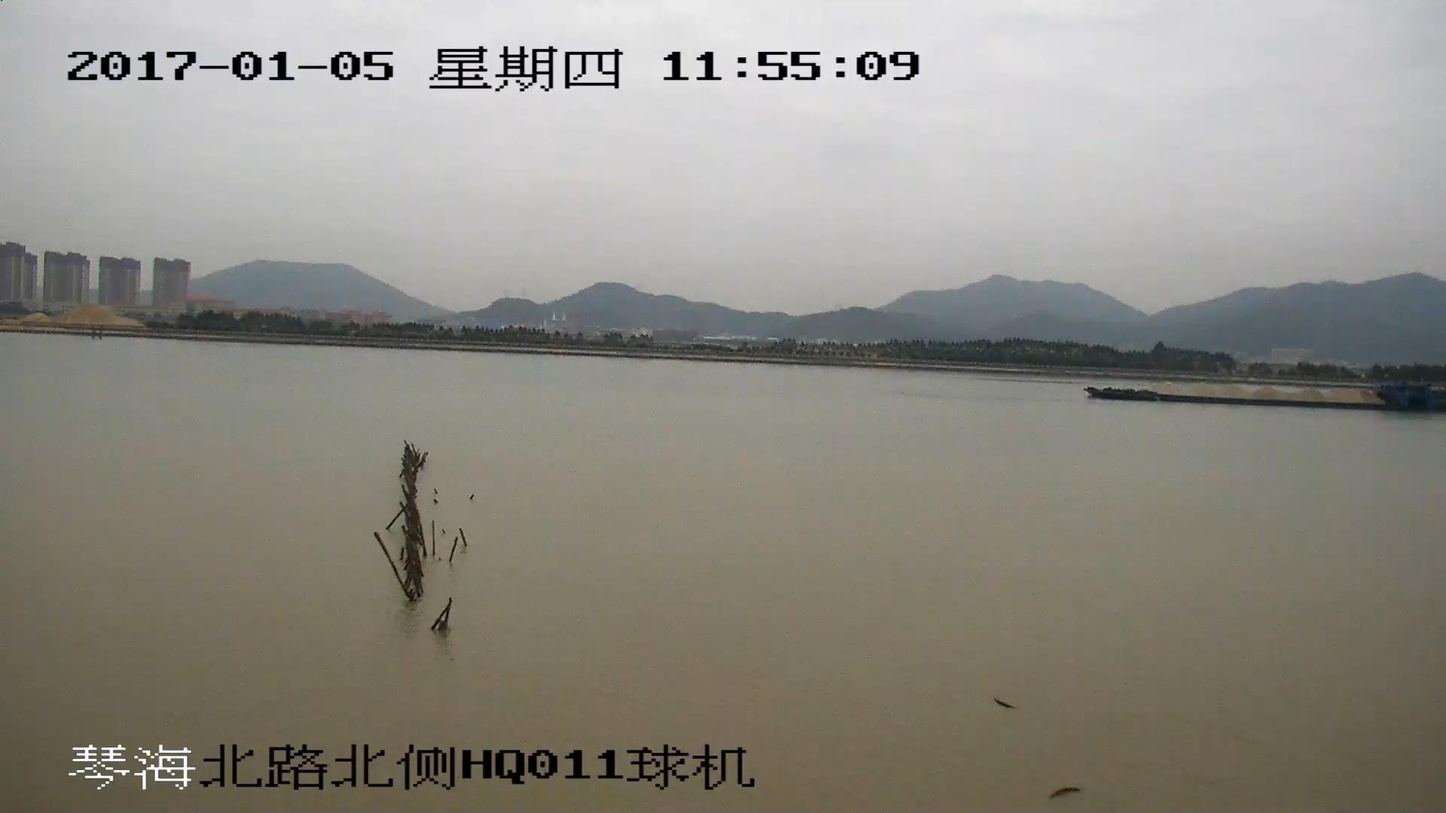ore carrier: (1099, 383, 1445, 412)
